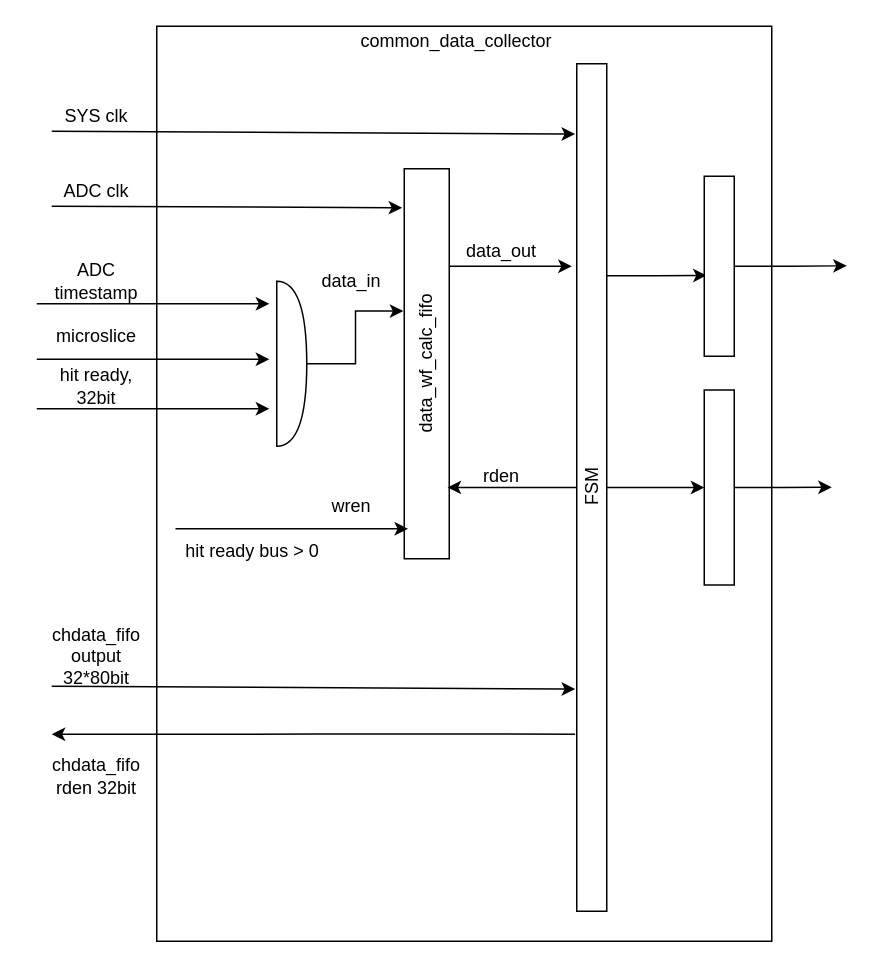
The diagram is 885 pixels wide and 968 high, and some of its shapes have lost their labels. The shapes that lost their labels are listed below. From the top down, each one's centre as x and y in pixels, then its label:
At (718,265): "commond_data_fifo".
At (718,486): "commond_header_fifo".
